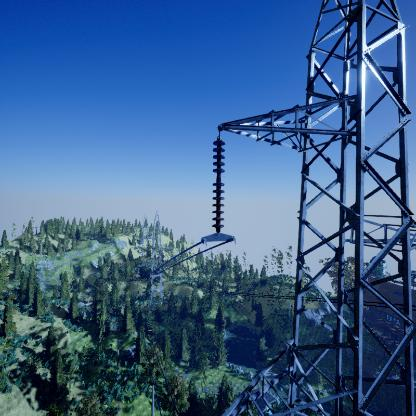insulator: (210, 137, 228, 231)
